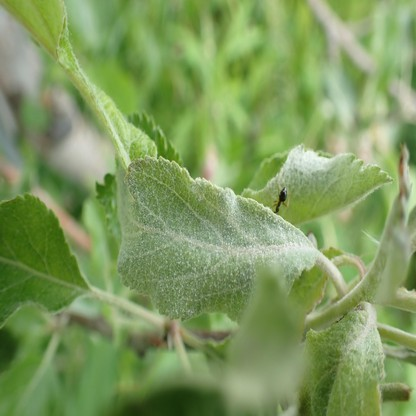powder: (118, 155, 323, 318), (56, 0, 157, 161), (241, 144, 394, 225), (299, 302, 386, 416), (352, 241, 388, 307)
